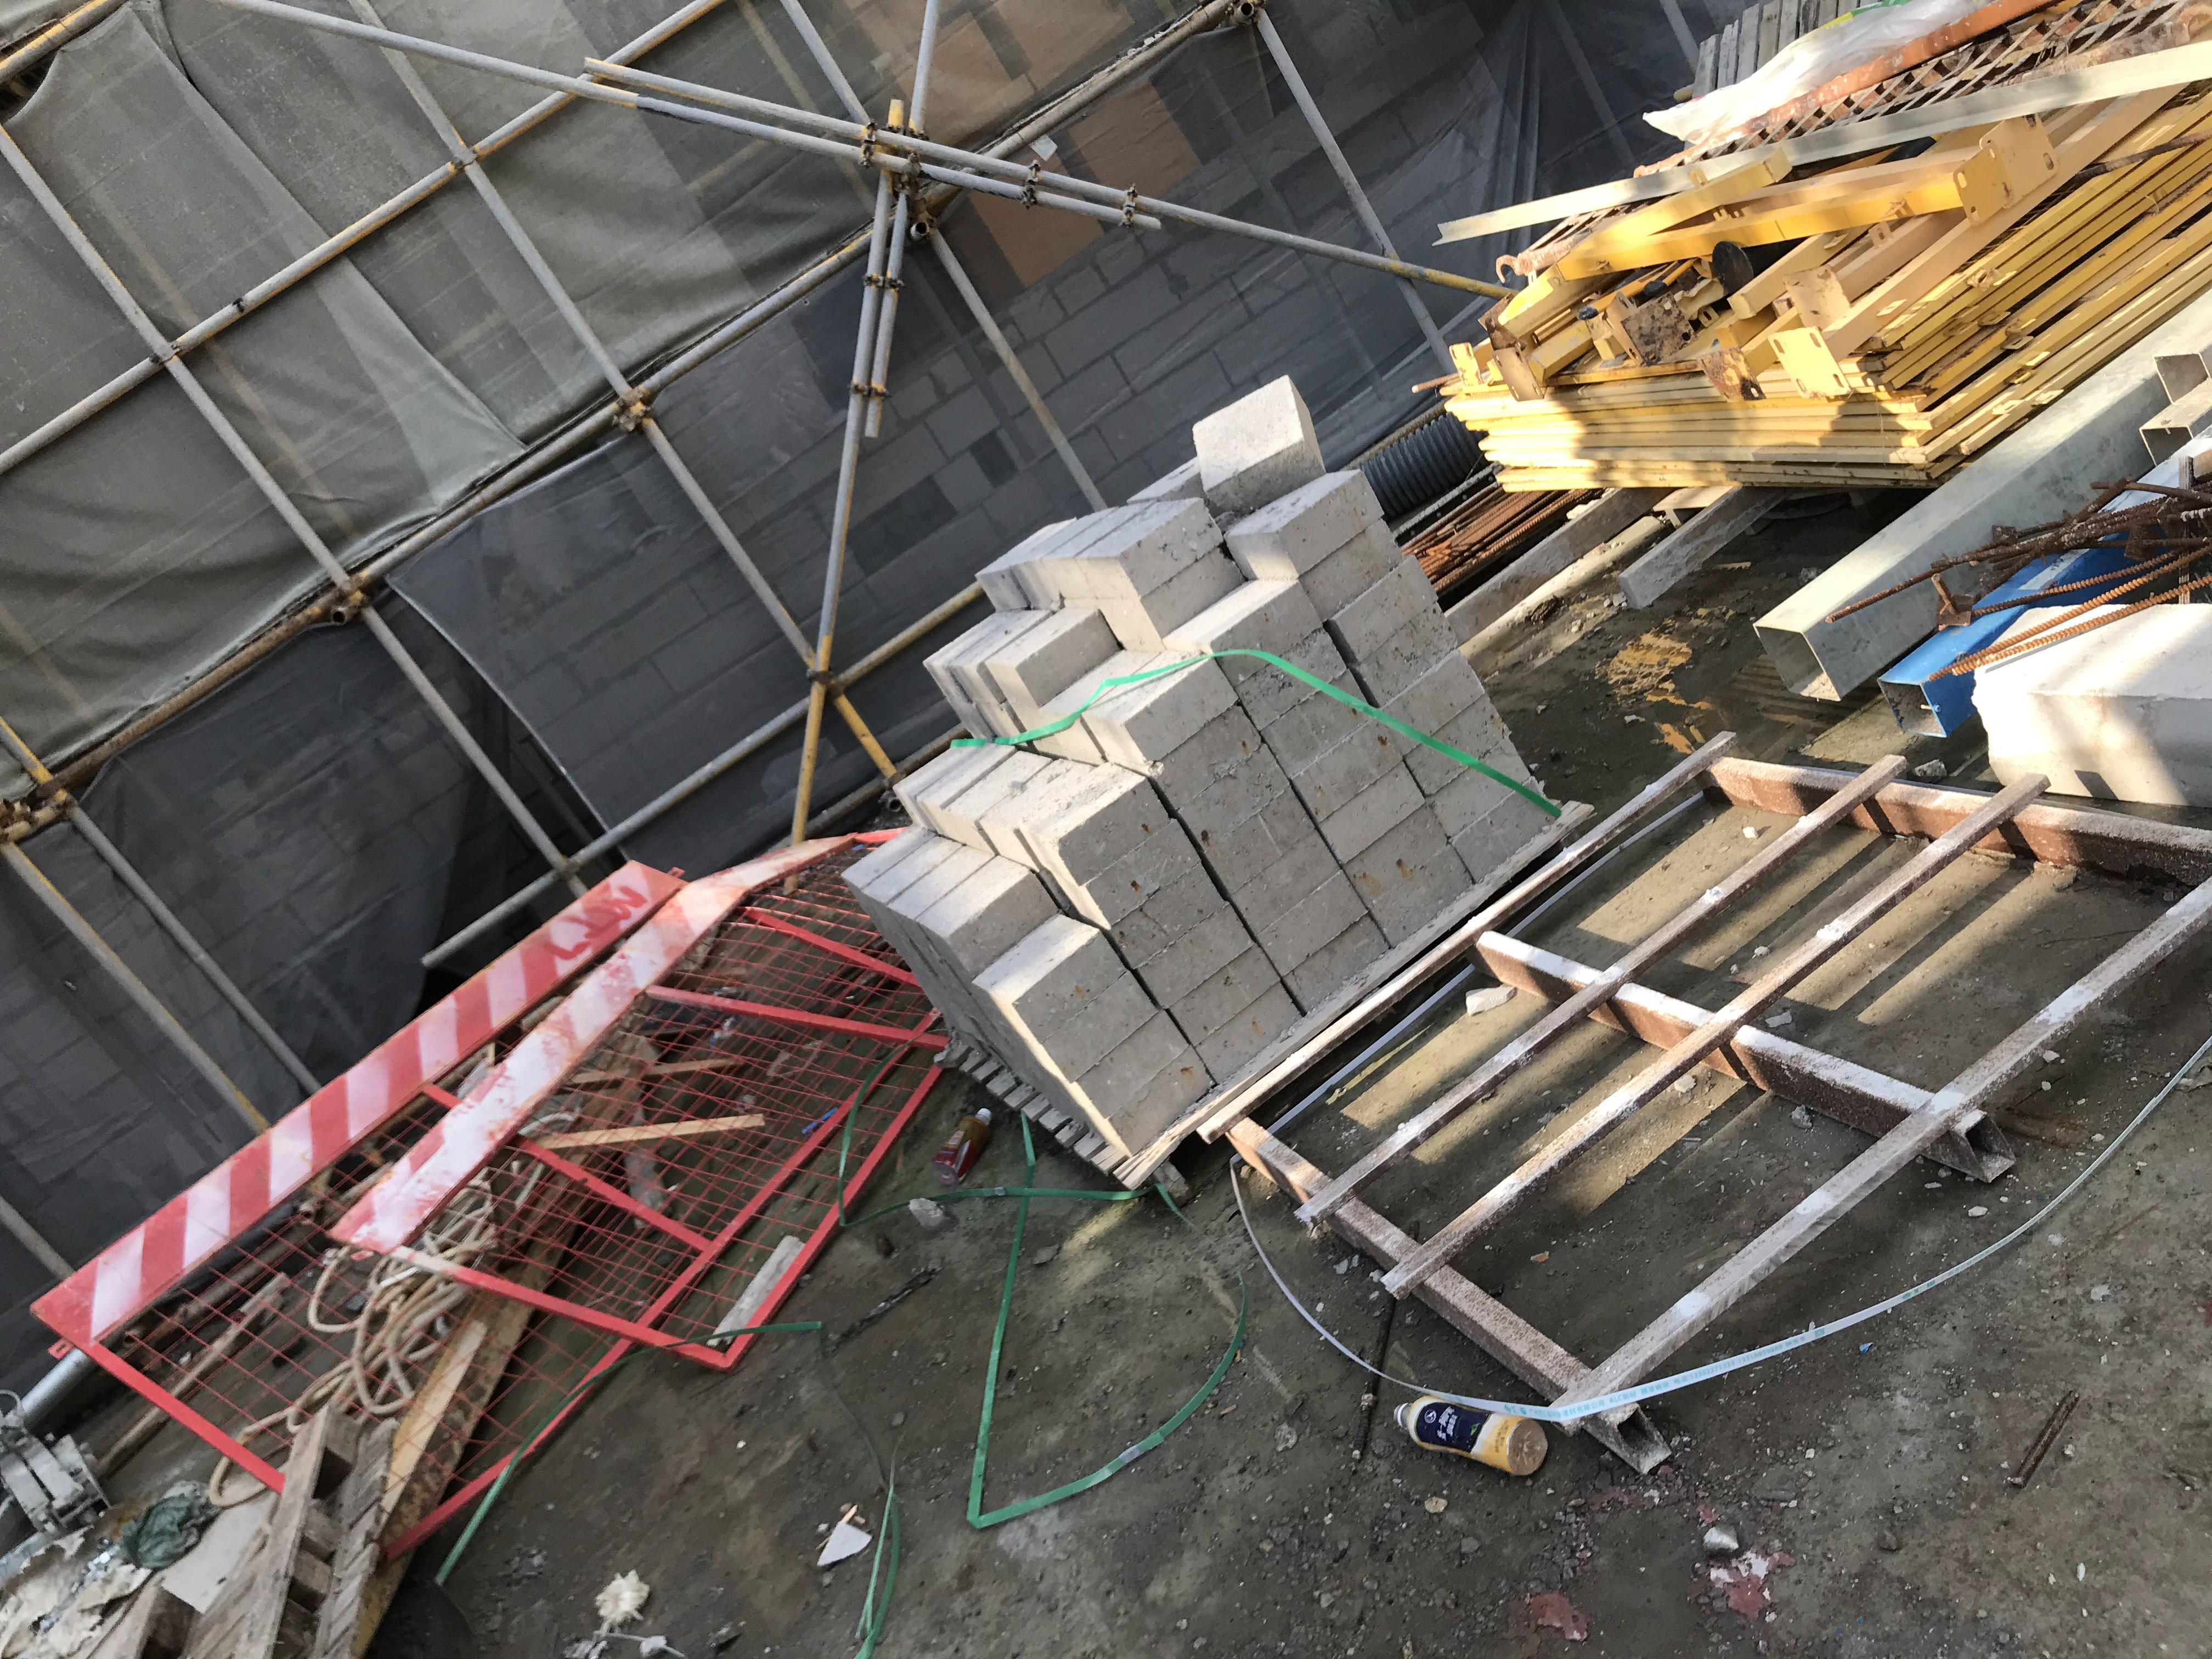brick: (838, 432, 1561, 1161)
